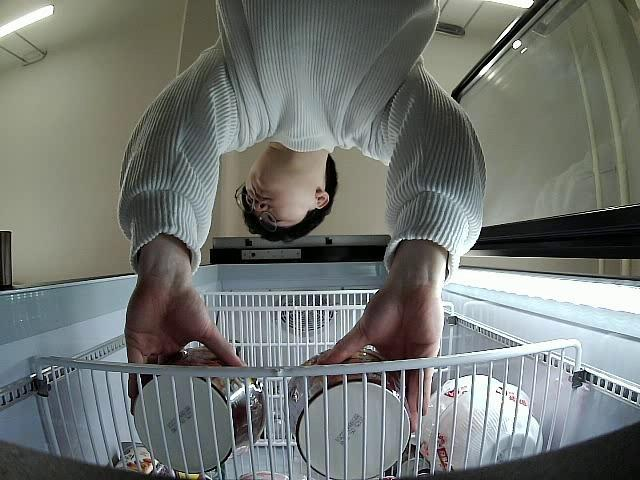05_nuguri_L: (282, 348, 414, 479), (134, 348, 267, 475)
